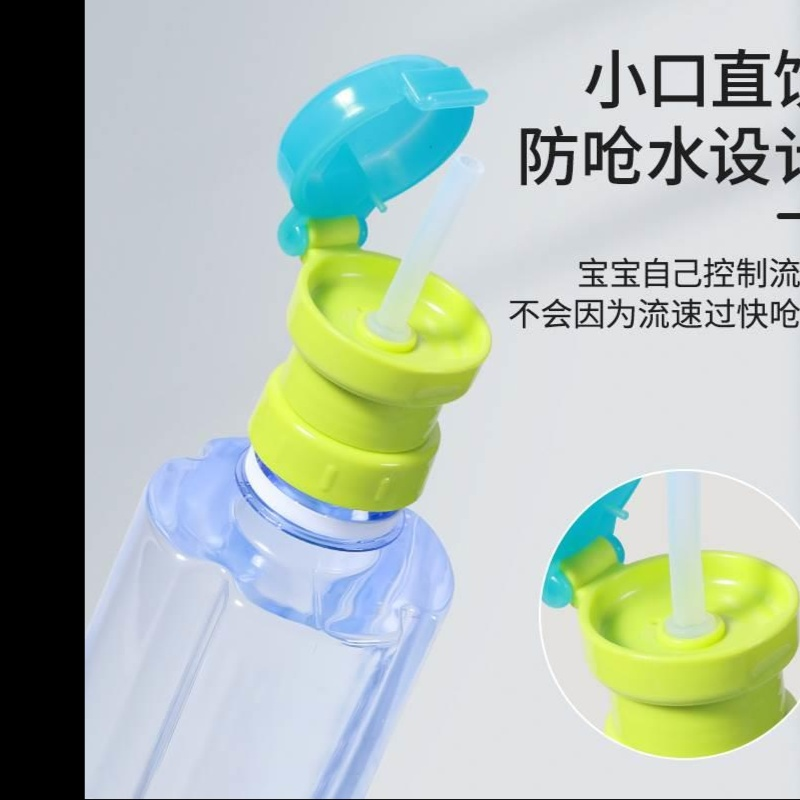bottle: (85, 373, 487, 799)
